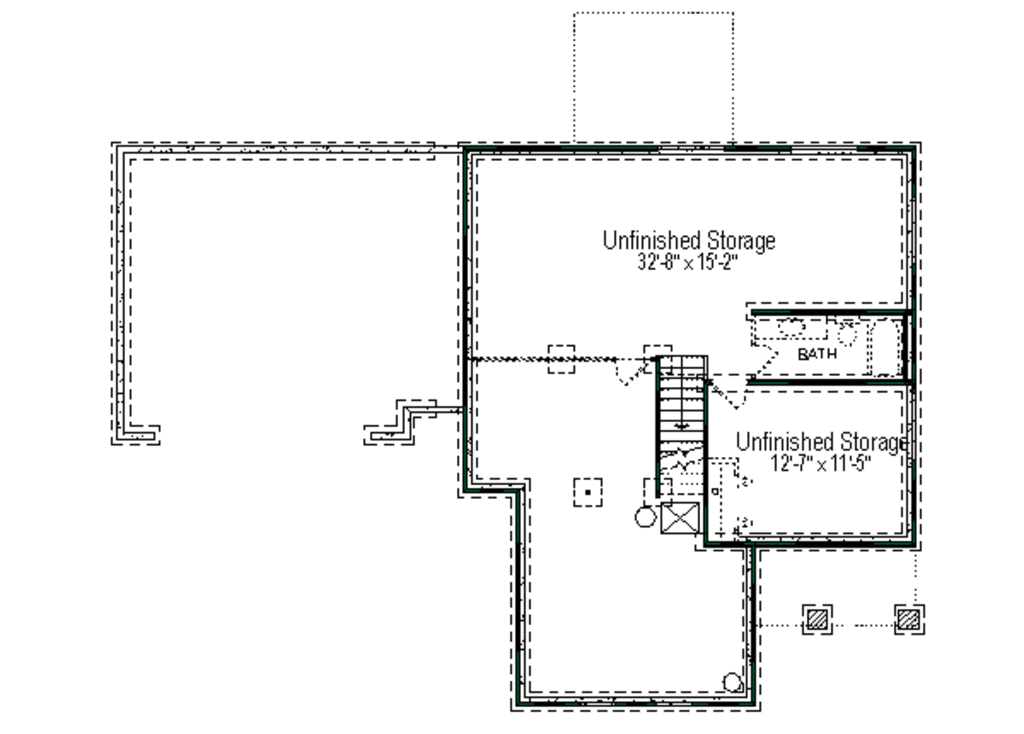door: (708, 368, 750, 417), (600, 358, 654, 386), (756, 342, 789, 376)
large_sink: (828, 309, 861, 363)
small_sink: (757, 310, 824, 341)
stairs: (644, 363, 714, 508)
tub: (861, 323, 916, 385)
window: (658, 147, 722, 160)
